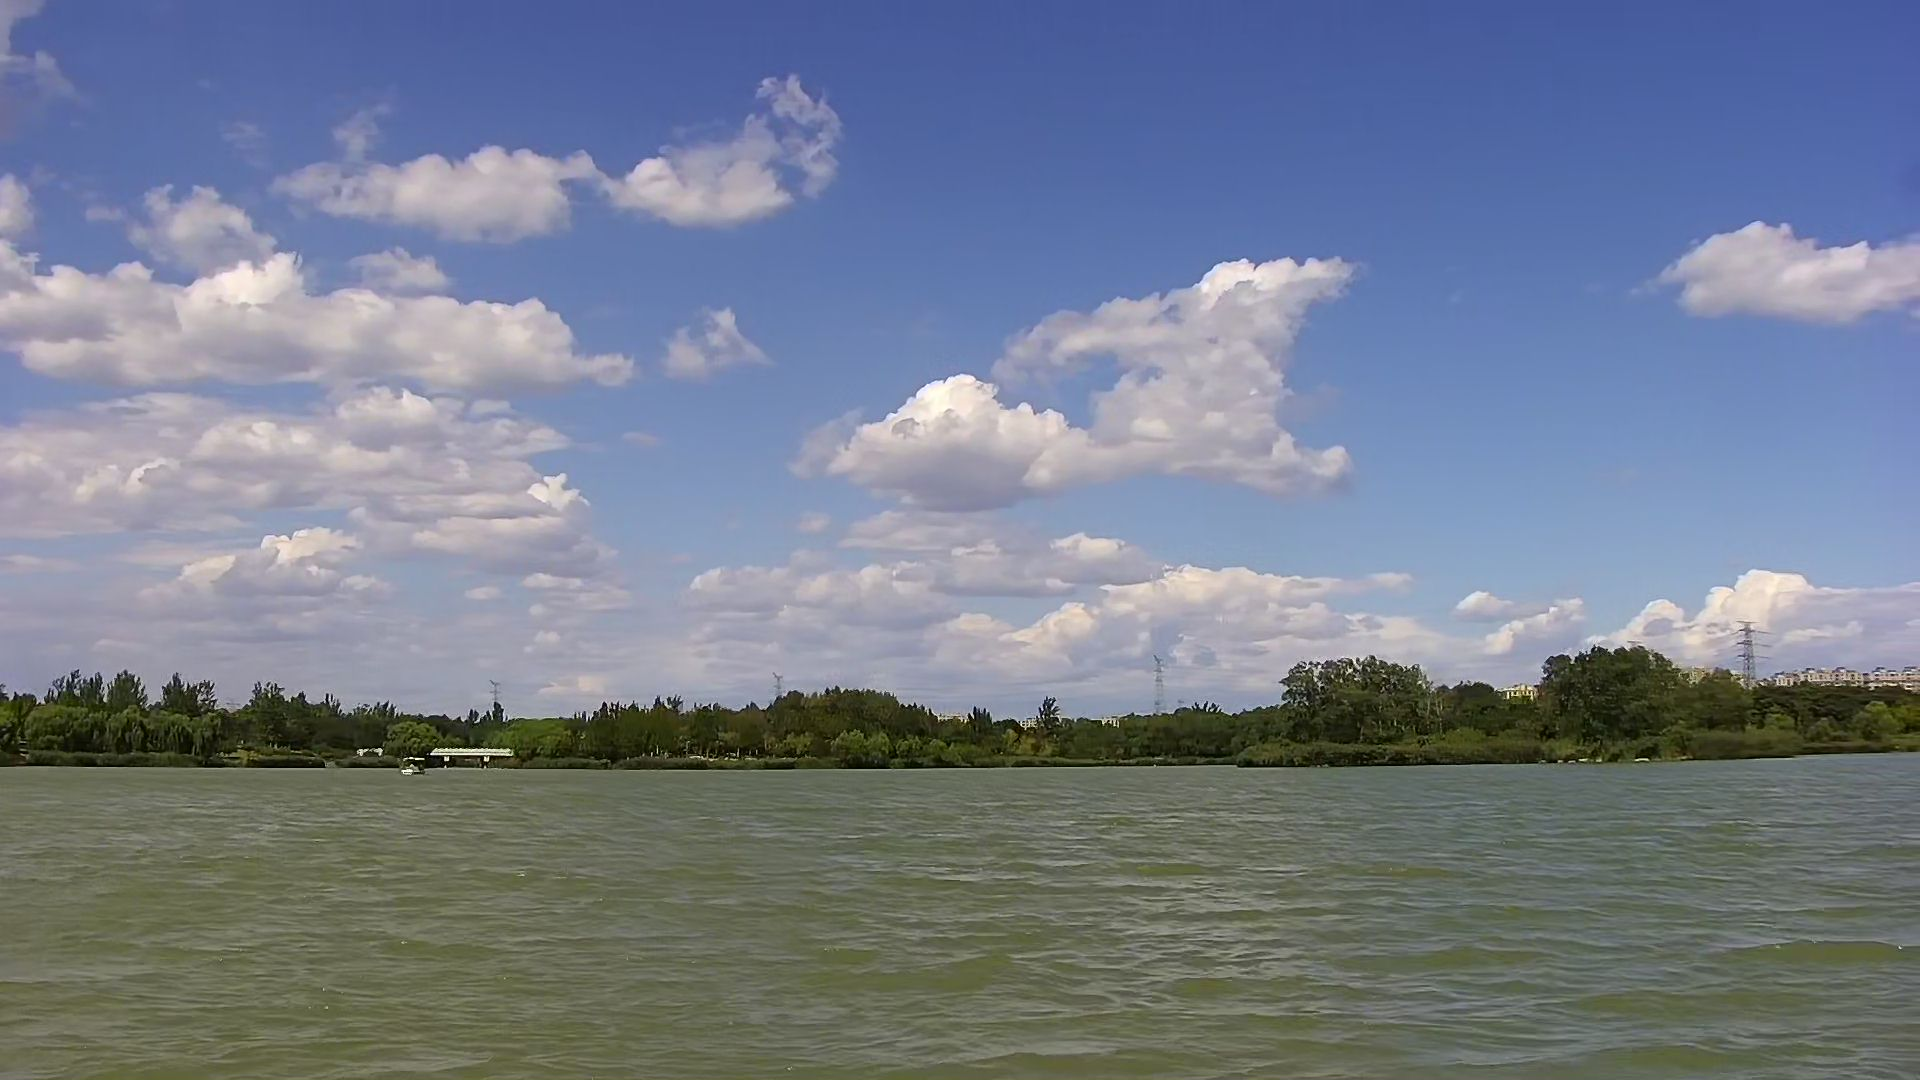harbor: (431, 740, 516, 771)
